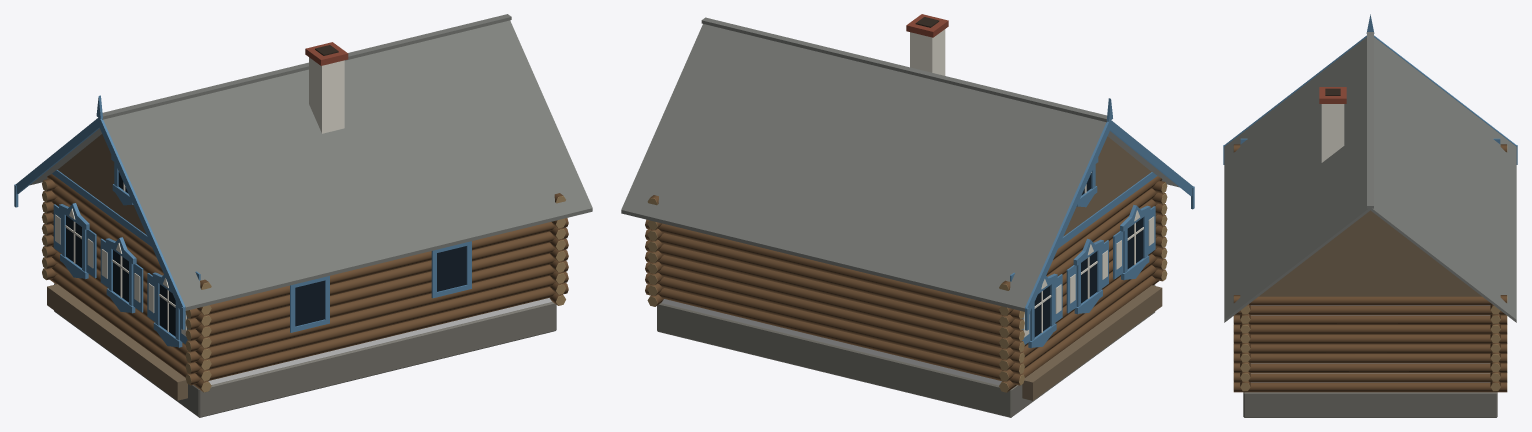
File: izba-srub-2.glb
3 renders of one model, left to right at view 1: azimuth 30°, elevation 25°; view 2: azimuth 150°, elevation 25°; view 3: azimuth 270°, elevation 25°, orthographic. The views are drawn at different scales.
Parts seen in each view (by area): view 1: 05_paint2, 02_paint1, 00_#77756e, 06_paint0, 04_#7a6a56, 07_#1c2630, 08_#e6e2d6, 03_#a08660, solid, 09_#8a4a3a; view 2: 05_paint2, 02_paint1, 00_#77756e, 06_paint0, 04_#7a6a56, 08_#e6e2d6, 03_#a08660, 07_#1c2630, solid, 09_#8a4a3a; view 3: 05_paint2, 02_paint1, 04_#7a6a56, 00_#77756e, 03_#a08660, 08_#e6e2d6, solid, 06_paint0, 09_#8a4a3a.
Part boxes in pixels (<box>): 05_paint2: <box>29,14,592,310</box>; 02_paint1: <box>43,174,568,391</box>; 00_#77756e: <box>54,283,556,417</box>; 06_paint0: <box>14,95,471,347</box>; 04_#7a6a56: <box>47,134,187,400</box>; 07_#1c2630: <box>66,172,466,336</box>; 08_#e6e2d6: <box>55,57,344,336</box>; 03_#a08660: <box>42,180,568,392</box>; solid: <box>208,298,552,384</box>; 09_#8a4a3a: <box>305,42,348,65</box>; 05_paint2: <box>621,17,1179,311</box>; 02_paint1: <box>645,176,1165,392</box>; 00_#77756e: <box>657,284,1155,417</box>; 06_paint0: <box>1010,98,1194,348</box>; 04_#7a6a56: <box>1022,136,1162,400</box>; 08_#e6e2d6: <box>910,29,1154,337</box>; 03_#a08660: <box>645,182,1167,392</box>; 07_#1c2630: <box>1034,173,1143,337</box>; solid: <box>661,299,1001,385</box>; 09_#8a4a3a: <box>906,14,948,37</box>; 05_paint2: <box>1224,32,1516,322</box>; 02_paint1: <box>1234,144,1506,392</box>; 04_#7a6a56: <box>1259,210,1481,296</box>; 00_#77756e: <box>1243,392,1497,417</box>; 03_#a08660: <box>1233,145,1507,391</box>; 08_#e6e2d6: <box>1321,104,1344,162</box>; solid: <box>1251,305,1489,382</box>; 06_paint0: <box>1223,14,1517,164</box>; 09_#8a4a3a: <box>1319,87,1346,103</box>.
Size of the model in its own units: 10.9 by 7.29 by 7.76.
